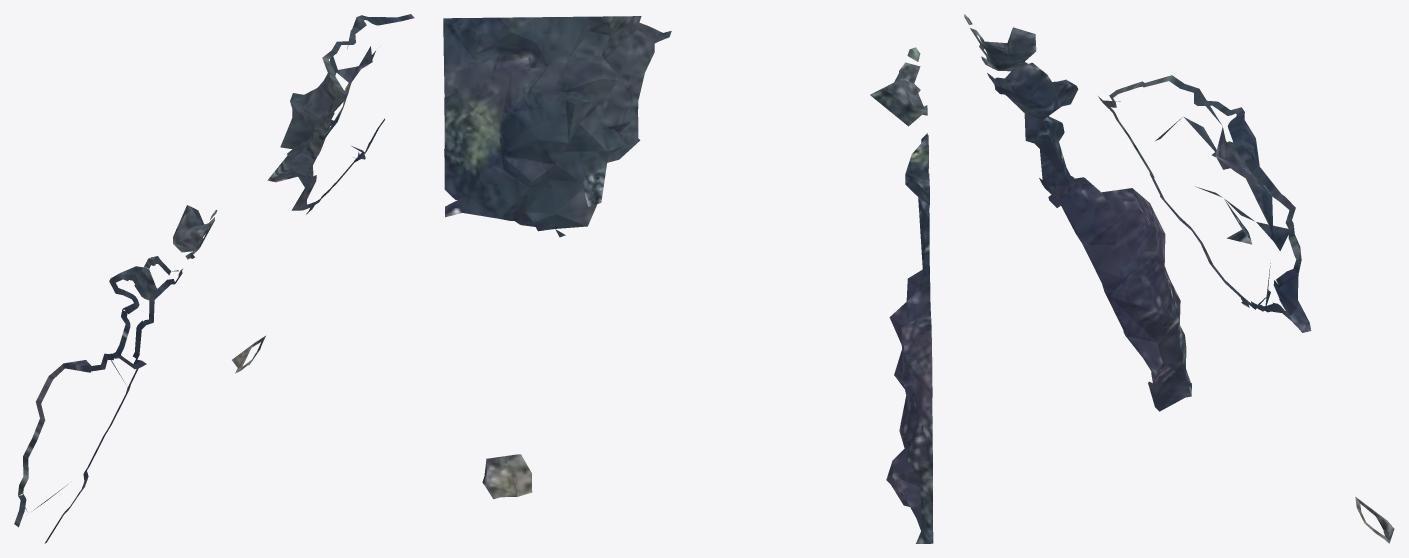
The picture shows the model from 3 angles, left to right: view 1: azimuth 30°, elevation 25°; view 2: azimuth 150°, elevation 25°; view 3: azimuth 270°, elevation 25°; orthographic projection. The views are drawn at different scales.
Bounding box in the file's own units: 38.52 × 36.44 × 27.91.
1 material, 1 textured.
